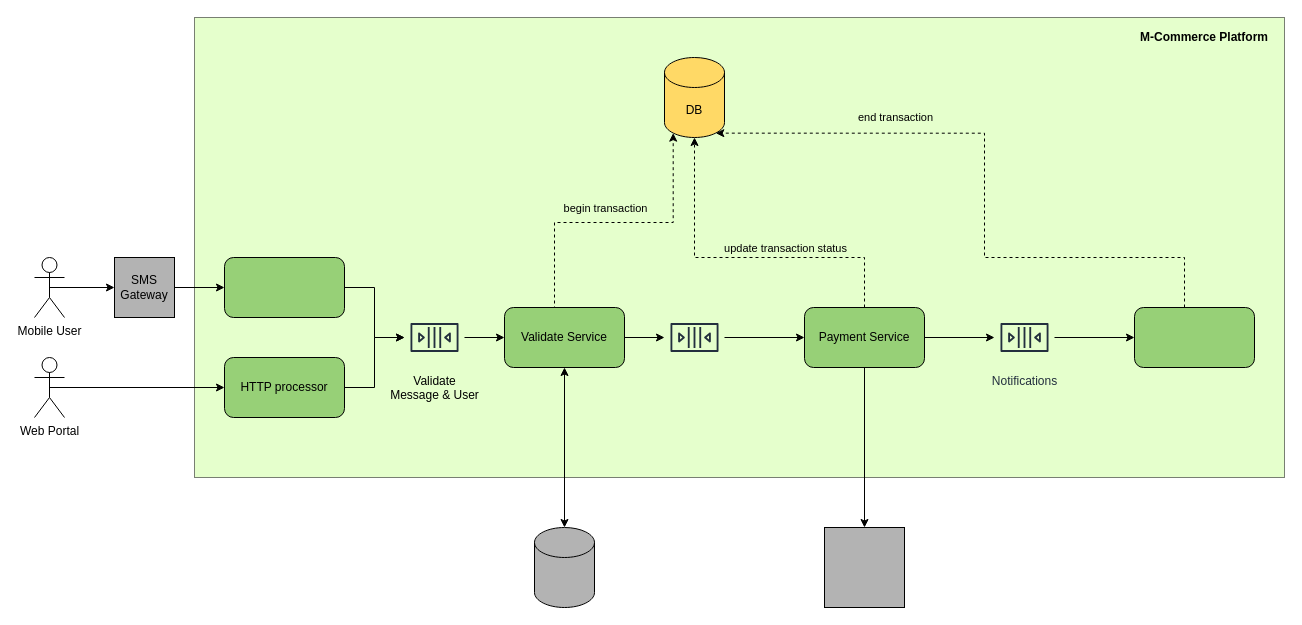
Image size: 1302x625. Some labels were removed from this diagram. The shapes that lost their labels are listed below. From the top down, each one's centre as x and y in pixels, then its label:
[284,287]: SMS processor
[694,337]: Payment settled
[1194,337]: Notification Service
[564,567]: LDAP
[864,567]: Payment Gateway
